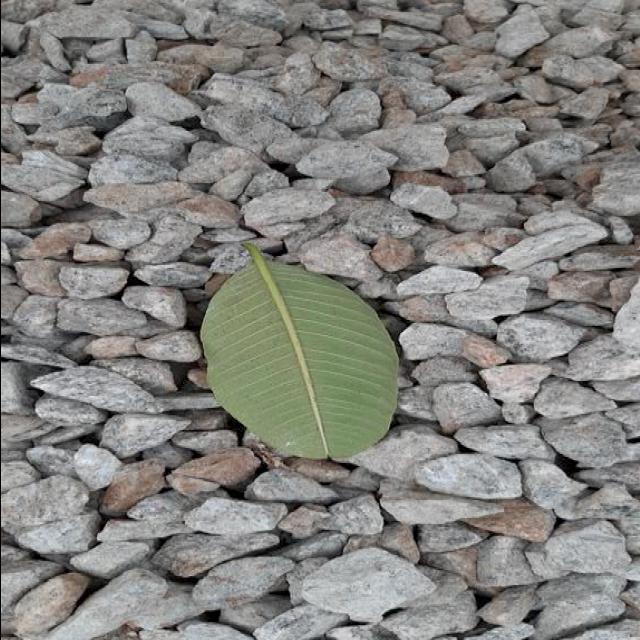leaf: (199, 241, 399, 461)
